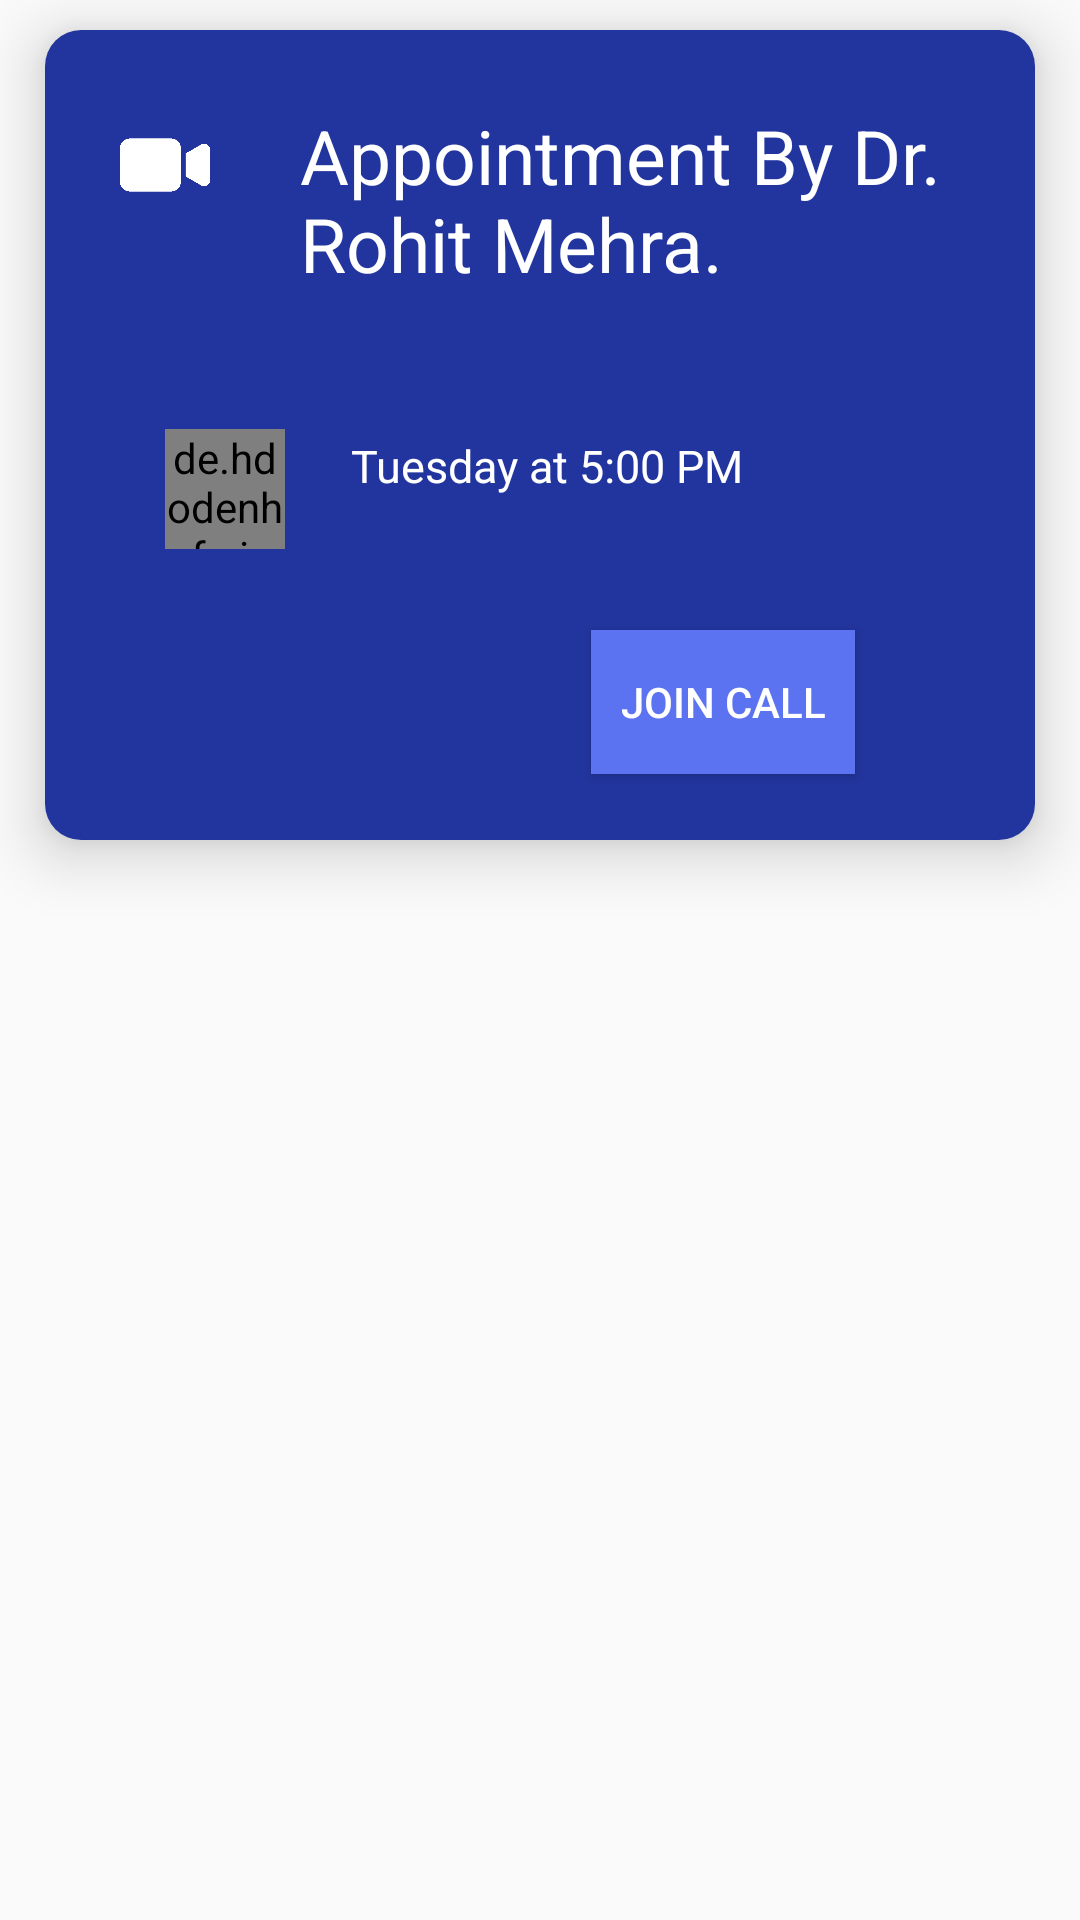

Icons on this 1080px x 1920px Android screen, each with its box as detection(x1, y1, x2, y2):
video camera: detection(120, 138, 210, 192)
